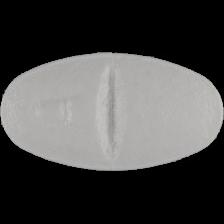55154-9608: (0, 0, 224, 224)
